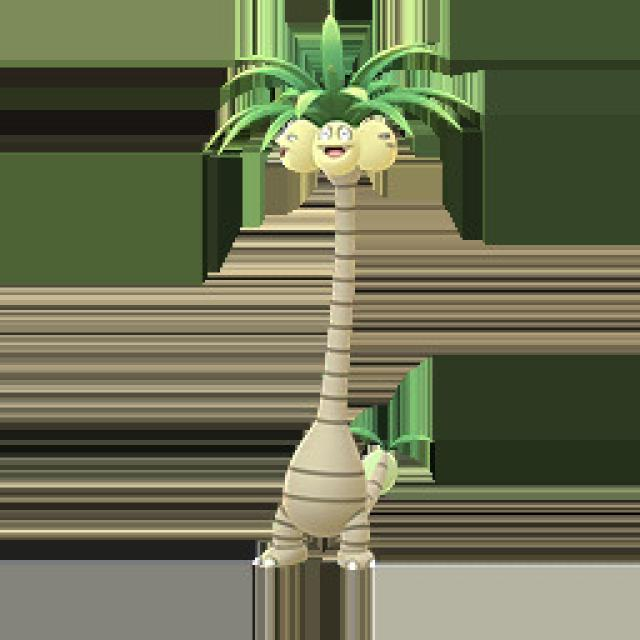Exeggutor: (239, 14, 415, 586)
